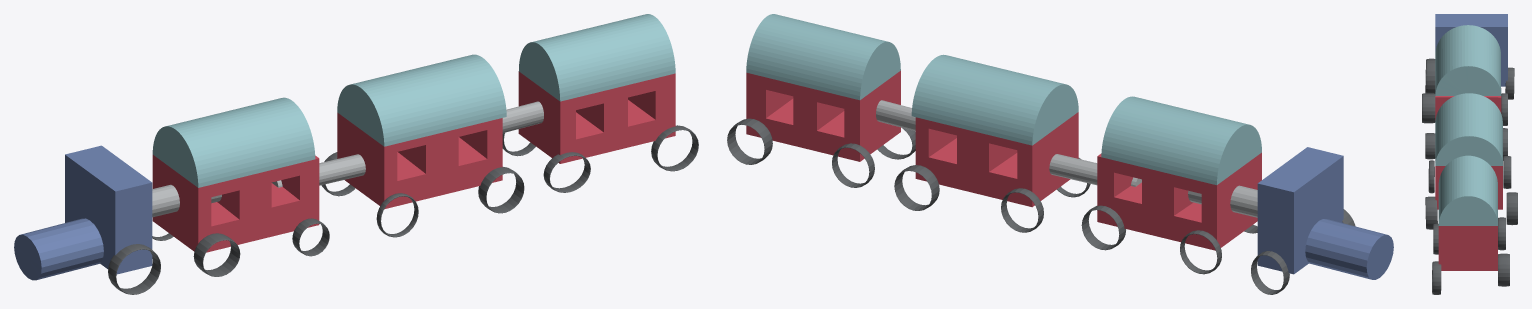
File: Train.glb
3 views of the same model, side by side, from view 1: azimuth 30°, elevation 25°; view 2: azimuth 150°, elevation 25°; view 3: azimuth 270°, elevation 25° (orthographic). The views are drawn at different scales.
Visible parts, largest first — view 1: Mesh_Mesh_head_geo.001_lambert2SG.001; view 2: Mesh_Mesh_head_geo.001_lambert2SG.001; view 3: Mesh_Mesh_head_geo.001_lambert2SG.001.
Part boxes in pixels (<box>): Mesh_Mesh_head_geo.001_lambert2SG.001: <box>14,14,698,294</box>; Mesh_Mesh_head_geo.001_lambert2SG.001: <box>727,14,1393,294</box>; Mesh_Mesh_head_geo.001_lambert2SG.001: <box>1422,14,1517,294</box>.
Size of the model in its own units: 162 by 33.65 by 29.
